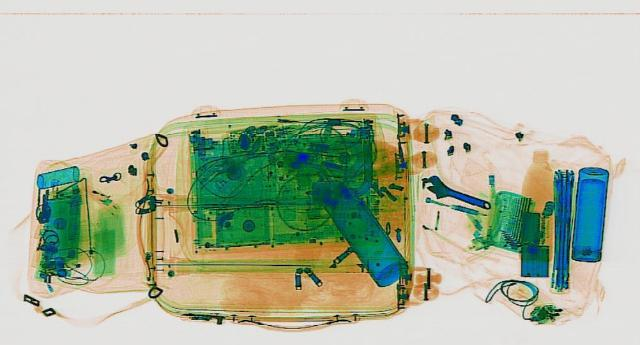Wrench: (408, 172, 502, 212)
